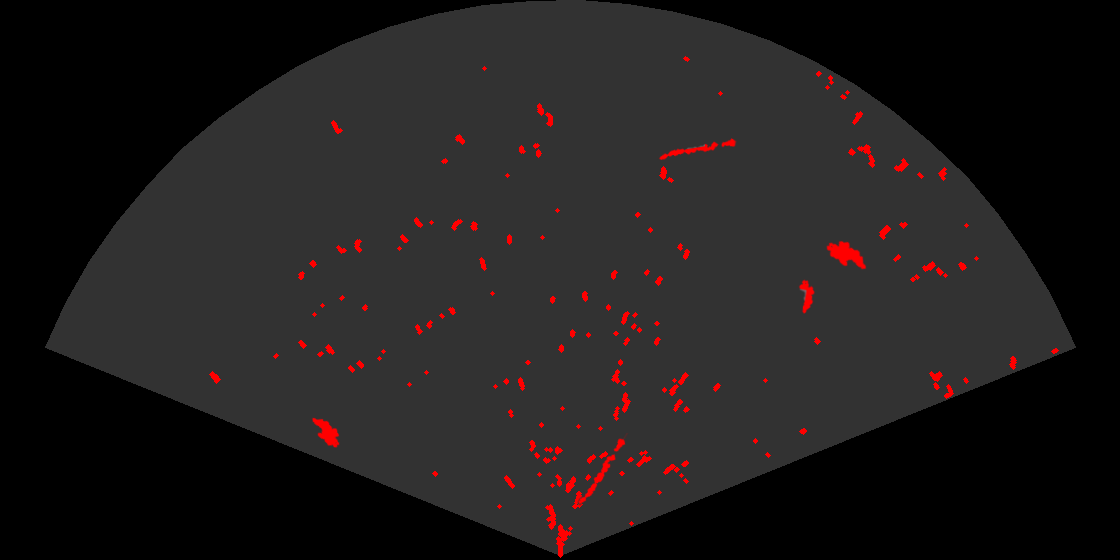AUV: (825, 239, 868, 271), (310, 416, 341, 449), (797, 278, 816, 315)
chain: (577, 433, 630, 506), (657, 137, 737, 162)
